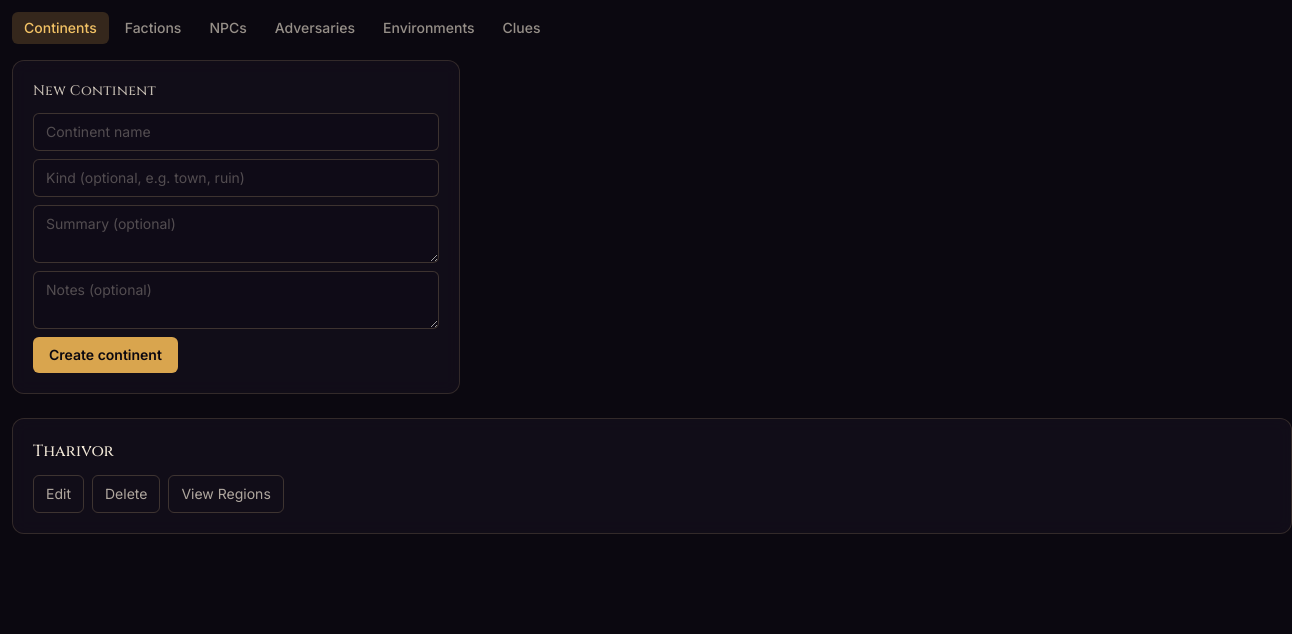
Test case: LibraryPage › drills from a continent into its regions, and from a region into its locations
The width and height of the screenshot is (1292, 634).
Expected: the heading "Tharivor" is shown, top-left (33, 440), bottom-right (114, 462)
Click the button "View Regions" at (226, 494), box top-left (168, 475), bottom-right (284, 513)
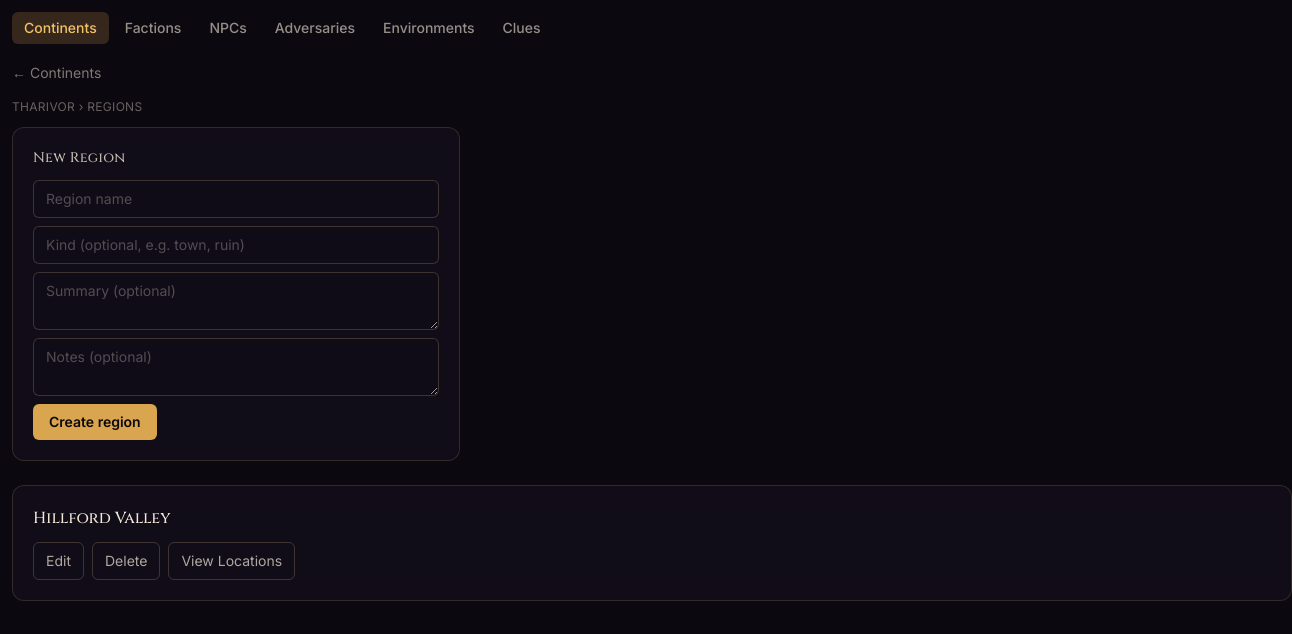
Expected: the heading "Hillford Valley" is shown, top-left (33, 507), bottom-right (170, 529)
Click the button "View Locations" at (232, 561), box top-left (168, 542), bottom-right (295, 580)
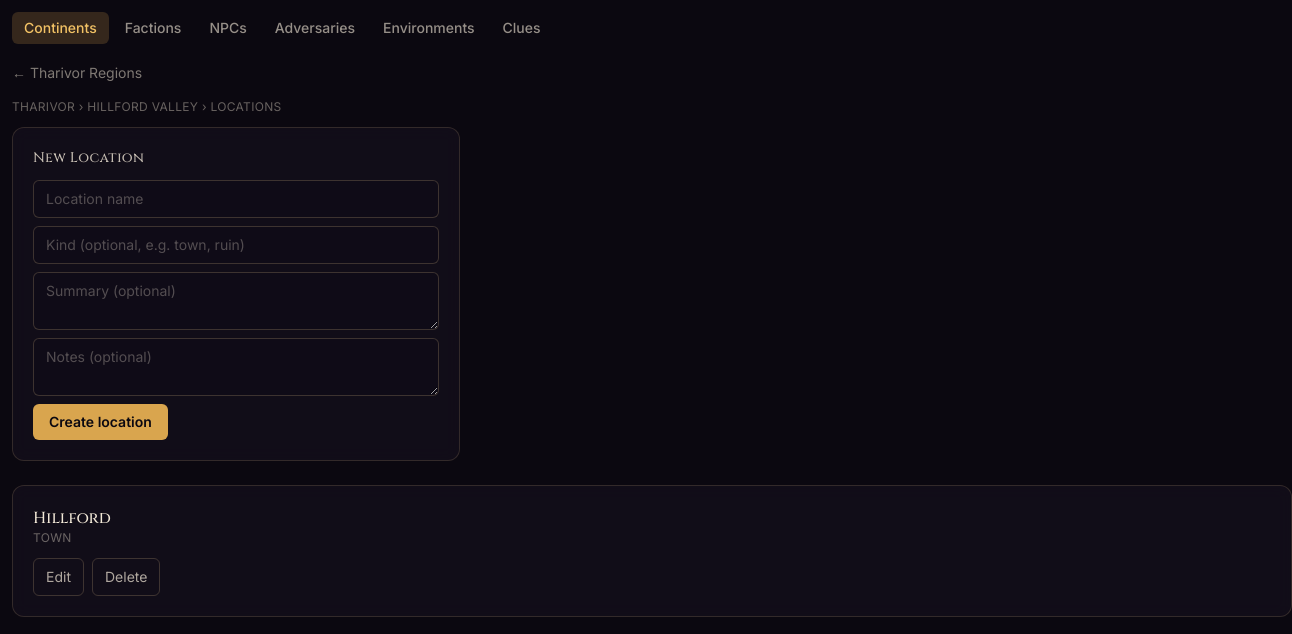
Expected: the heading "Hillford" is shown, top-left (33, 507), bottom-right (111, 529)
Expected: the text "town" is shown, top-left (33, 530), bottom-right (72, 545)
